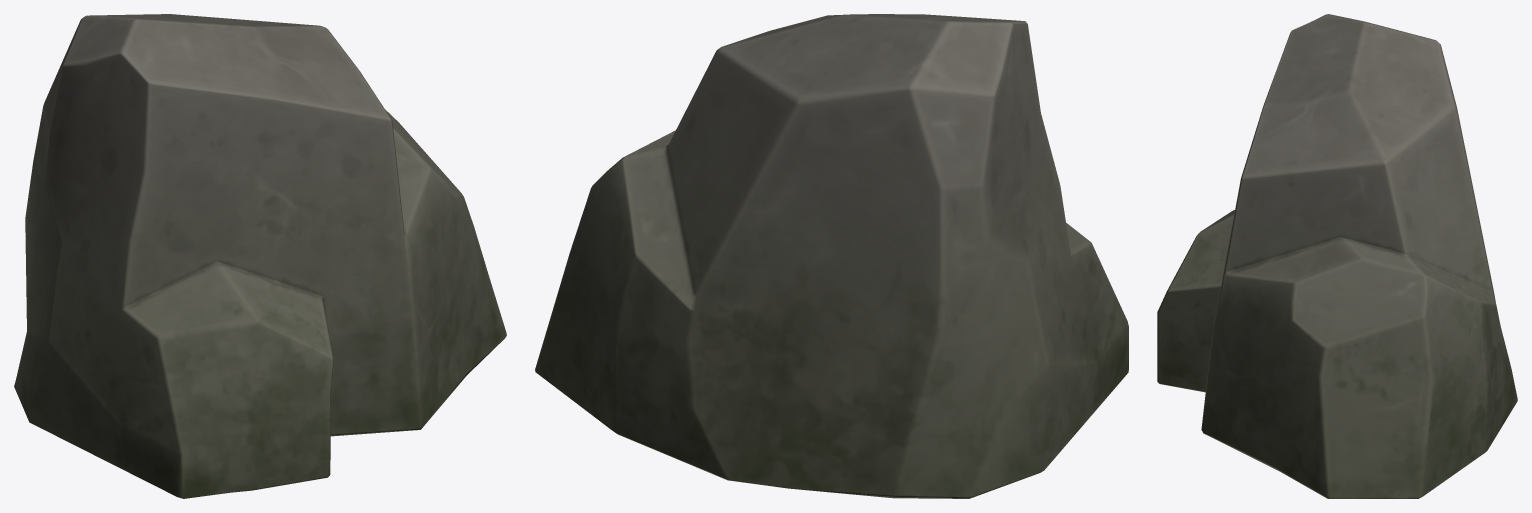
Rendered from AP2_Rock9.glb.
The picture shows the model from 3 angles, left to right: view 1: azimuth 30°, elevation 25°; view 2: azimuth 150°, elevation 25°; view 3: azimuth 270°, elevation 25°; orthographic projection. The views are drawn at different scales.
Parts seen in each view (by area): view 1: Rock9_LOD0; view 2: Rock9_LOD0; view 3: Rock9_LOD0.
Boxes of the visible parts, left/top/right/bottom form: Rock9_LOD0: left=14, top=14, right=506, bottom=498; Rock9_LOD0: left=535, top=14, right=1128, bottom=498; Rock9_LOD0: left=1157, top=14, right=1517, bottom=498.
Bounding box in the file's own units: 5.05 × 4.17 × 4.11.
Materials: 1 (1 with a texture image).
